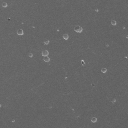corrosion: (74, 23, 83, 34), (40, 48, 50, 57), (16, 28, 25, 37), (61, 32, 70, 41), (100, 65, 108, 75), (89, 116, 98, 124), (43, 55, 51, 63), (110, 19, 118, 26), (79, 59, 86, 66), (43, 39, 50, 46), (1, 2, 9, 8), (28, 52, 34, 58)
